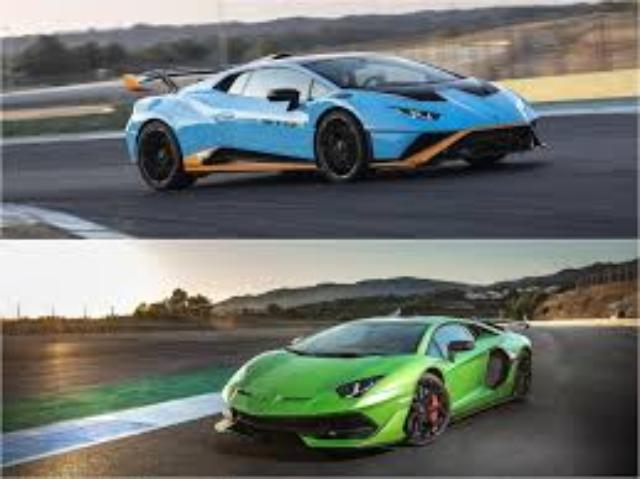lamborghini: (125, 50, 545, 190), (213, 316, 532, 450)
